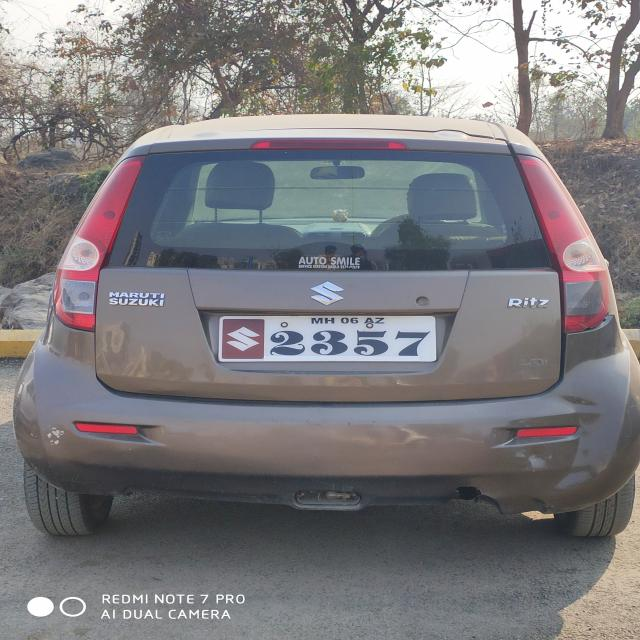Number-Plate: (235, 315, 434, 360)
